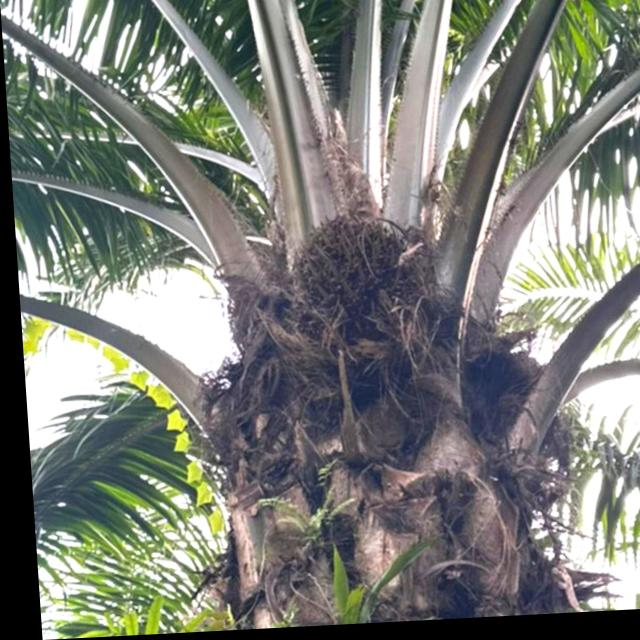ripe: (277, 212, 421, 334)
